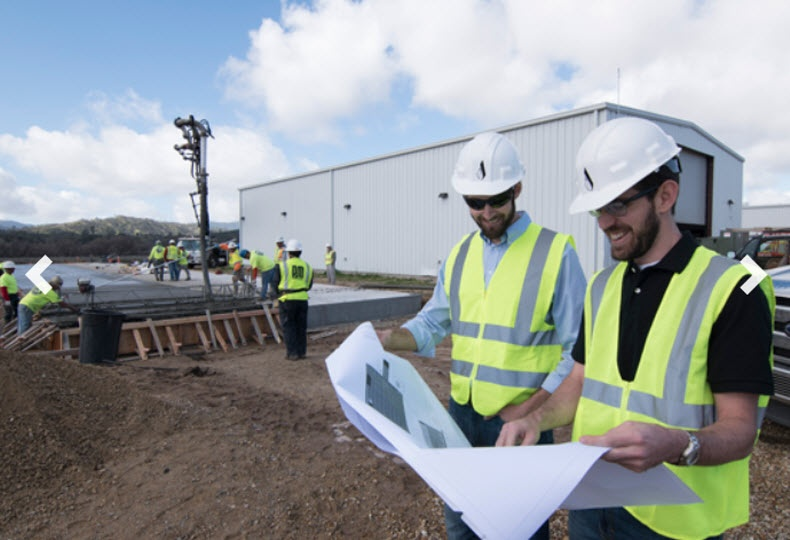blue: (239, 247, 250, 260)
white: (571, 114, 679, 259), (452, 132, 524, 234), (284, 239, 304, 259), (3, 259, 15, 275), (273, 235, 285, 248), (226, 241, 236, 252), (324, 243, 333, 253), (167, 238, 175, 246), (176, 242, 183, 249), (154, 239, 161, 246)
